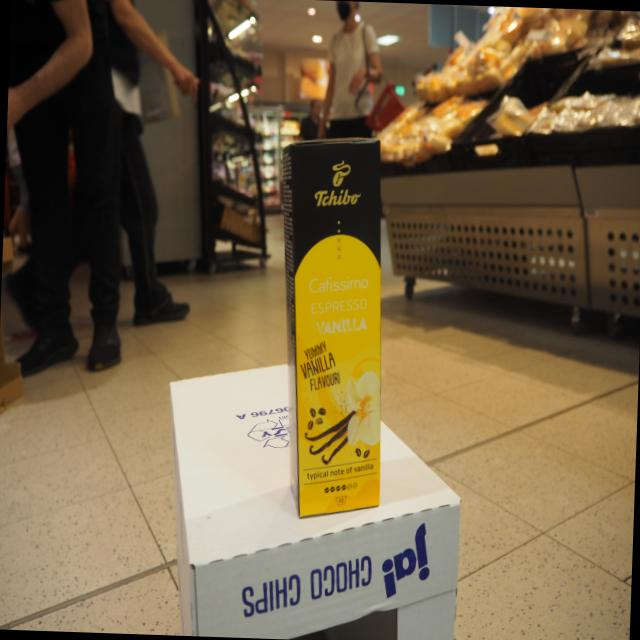Simo Es Vanilla: (289, 136, 382, 519)
